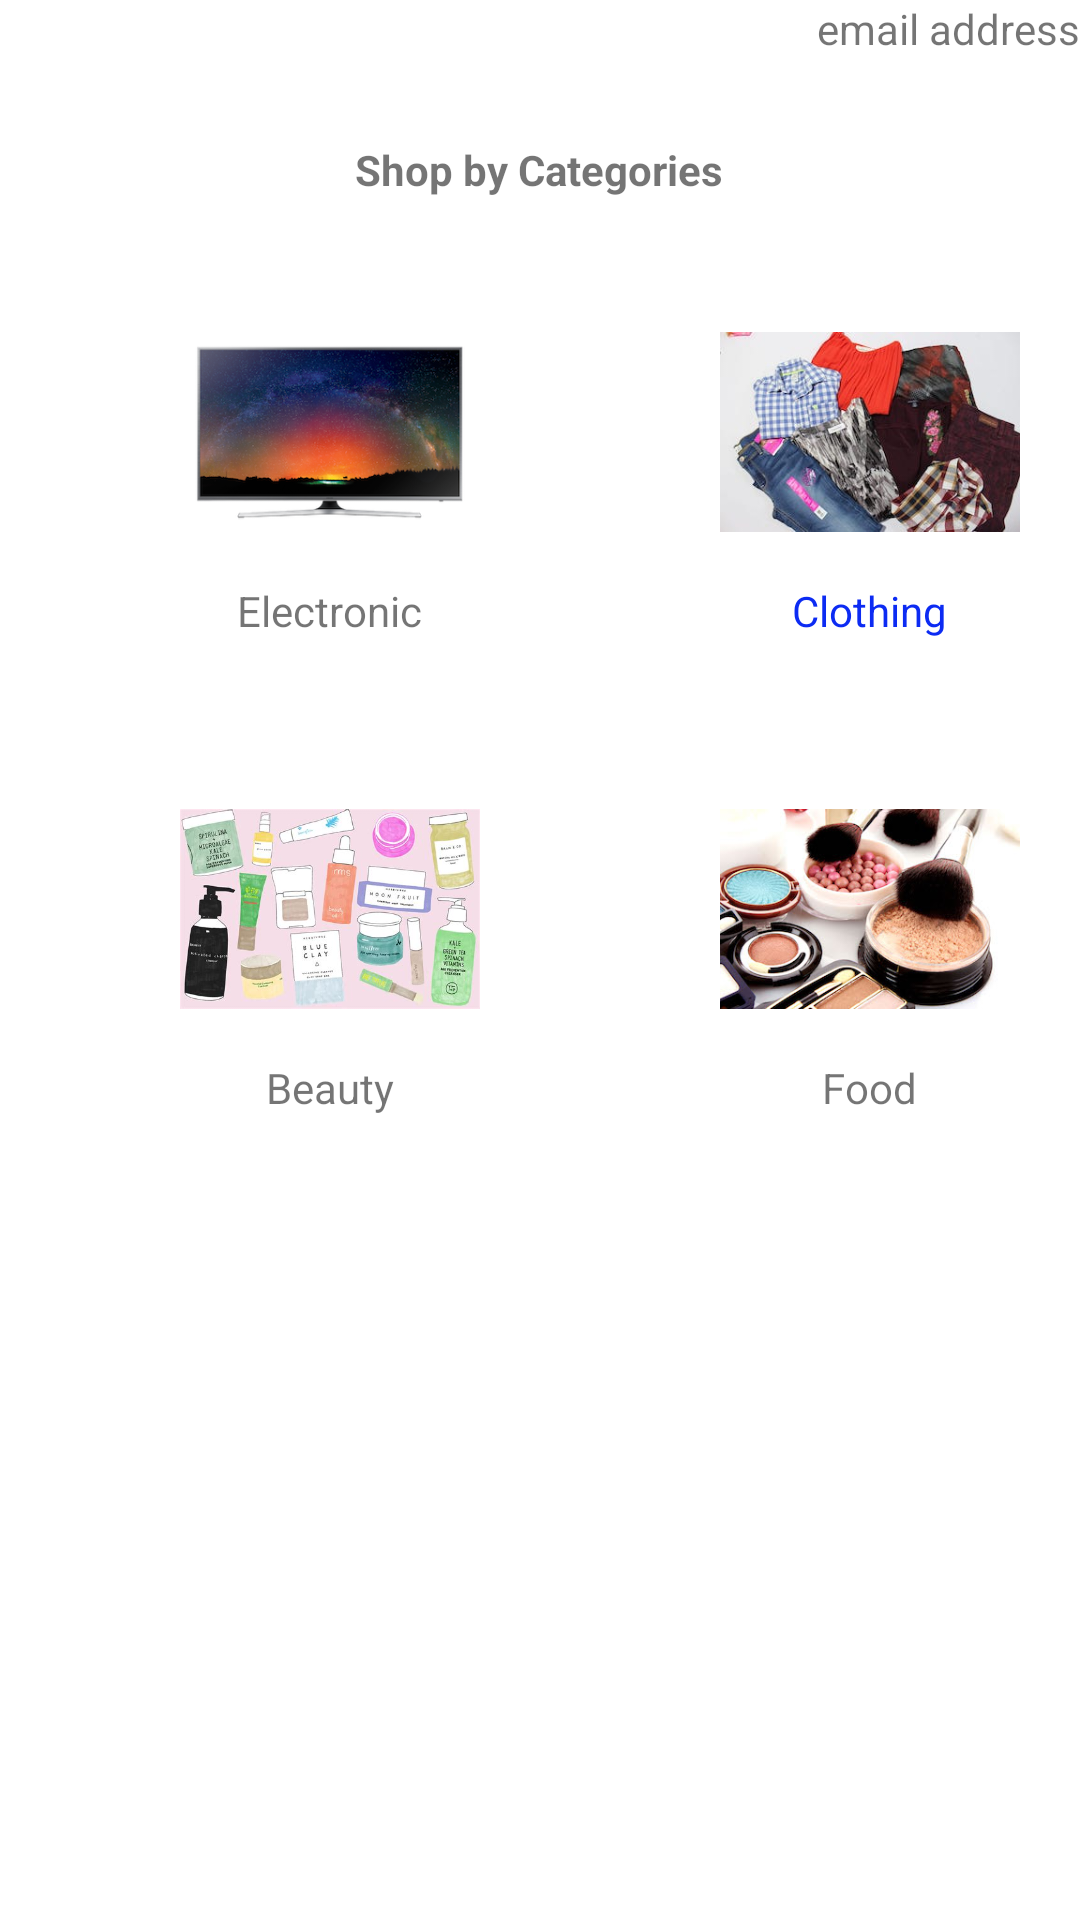

Where icons sit on this 1080 x 1920 app screen, as (x1, y1, x2, y2):
television: (197, 347, 463, 518)
